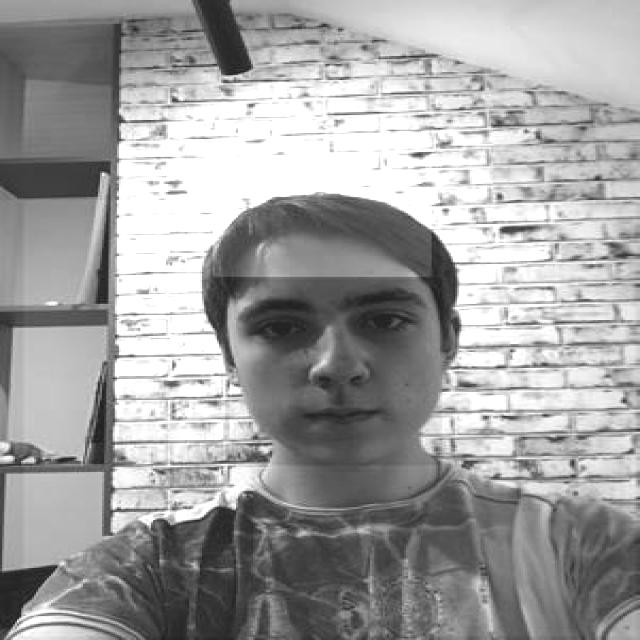face_nomask: (225, 278, 442, 466)
head_nohelmet: (213, 174, 432, 277)
person: (23, 200, 638, 638)
